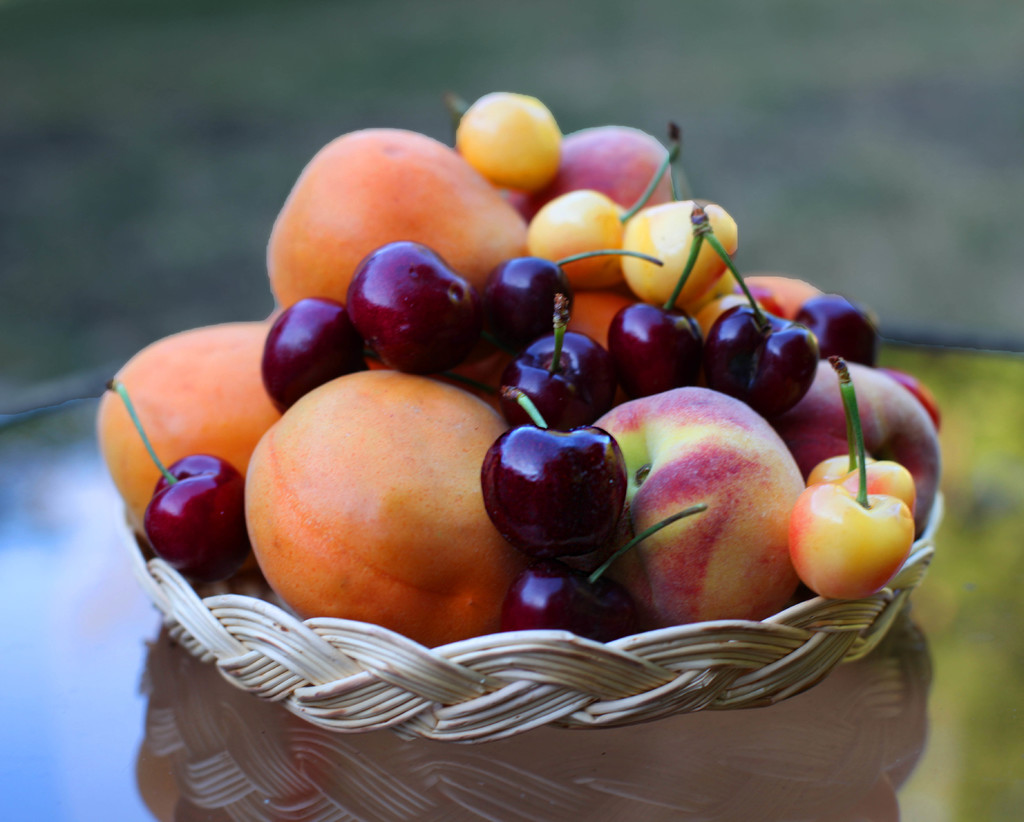Apple: (593, 383, 805, 618), (785, 358, 942, 536), (507, 129, 684, 214)
